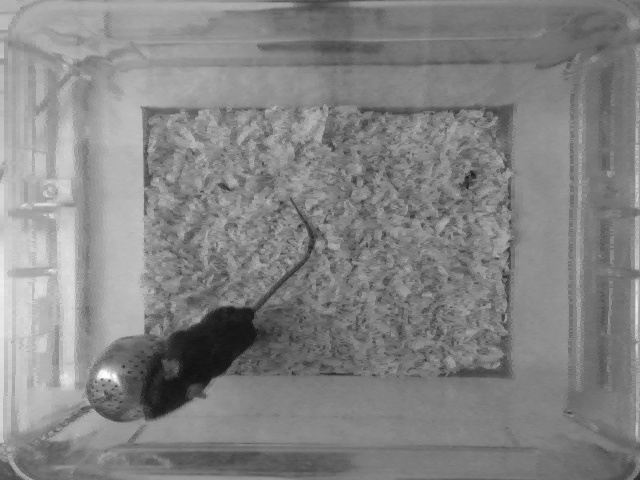mice: (140, 200, 317, 422)
